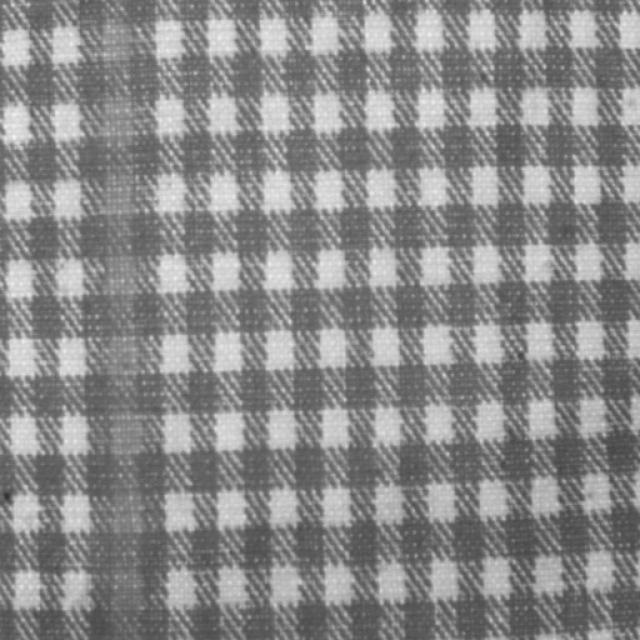Stain-Defect: (96, 13, 137, 639)
